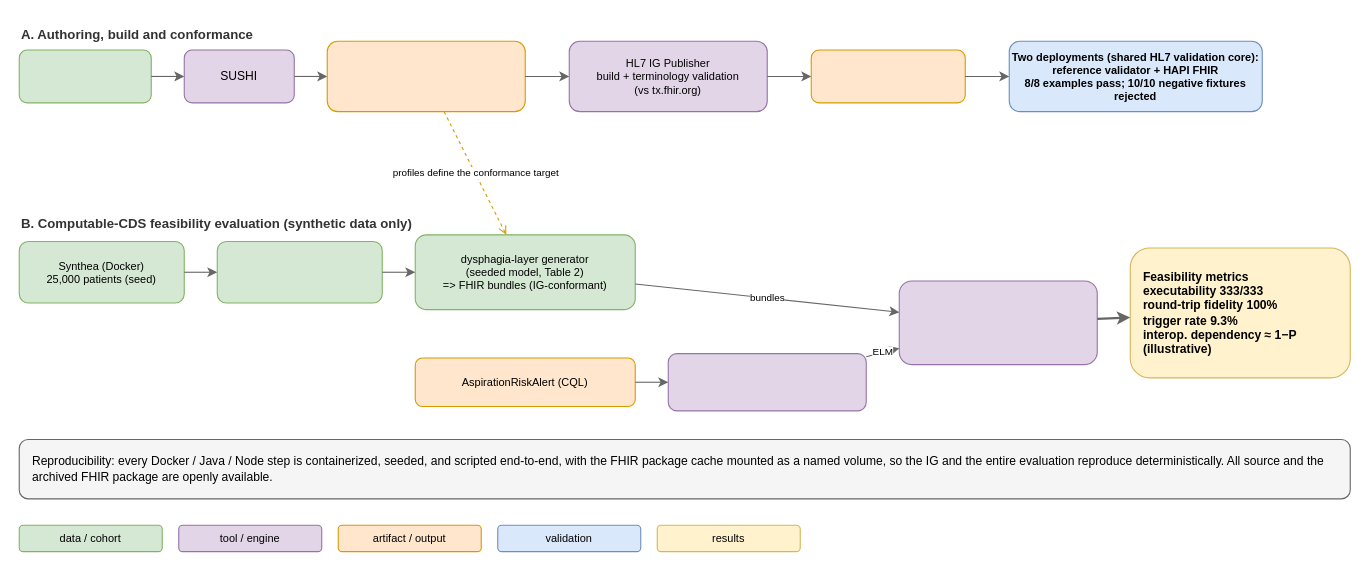
The diagram is 1370 pixels wide and 571 high, and some of its shapes have lost their labels. The centre of each missing label's shape, as x and y in pixels:
"cql-execution engine (+ cql-exec-fhir) runs rule over bundles" goes at (x=997, y=322).
"FHIR resources 6 profiles / 6 VS / 1 CS / 8 examples" goes at (x=425, y=76).
"filter stroke SNOMED 230690007 => N = 333" goes at (x=299, y=271).
"FSH source" goes at (x=84, y=76).
"Published IG 0 errors" goes at (x=887, y=76).
"translation service (Docker) CQL => ELM (+ FHIRHelpers)" goes at (x=766, y=382).
